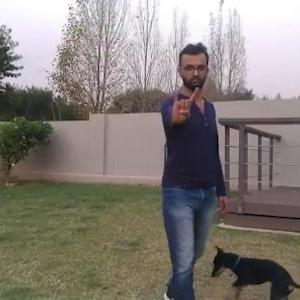takeoff-hand: (167, 79, 203, 125)
